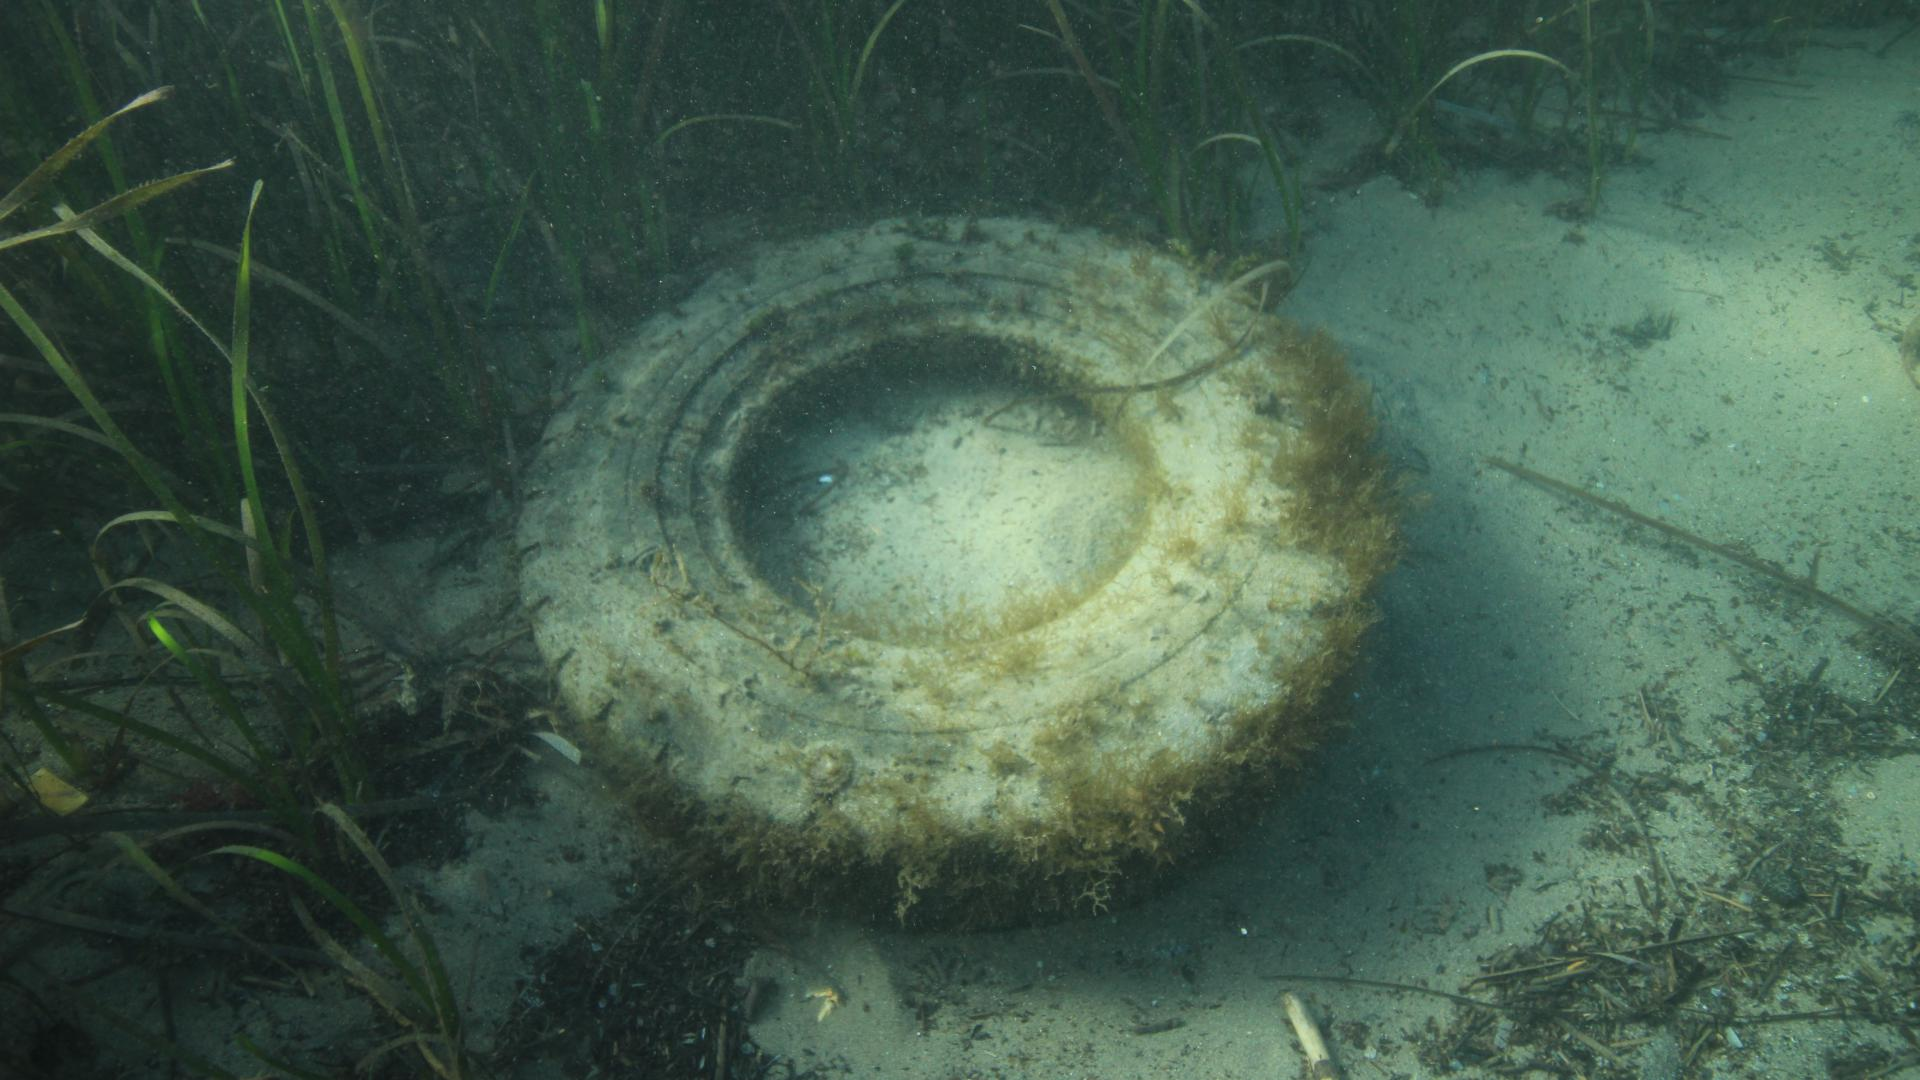tire: (512, 212, 1346, 934)
